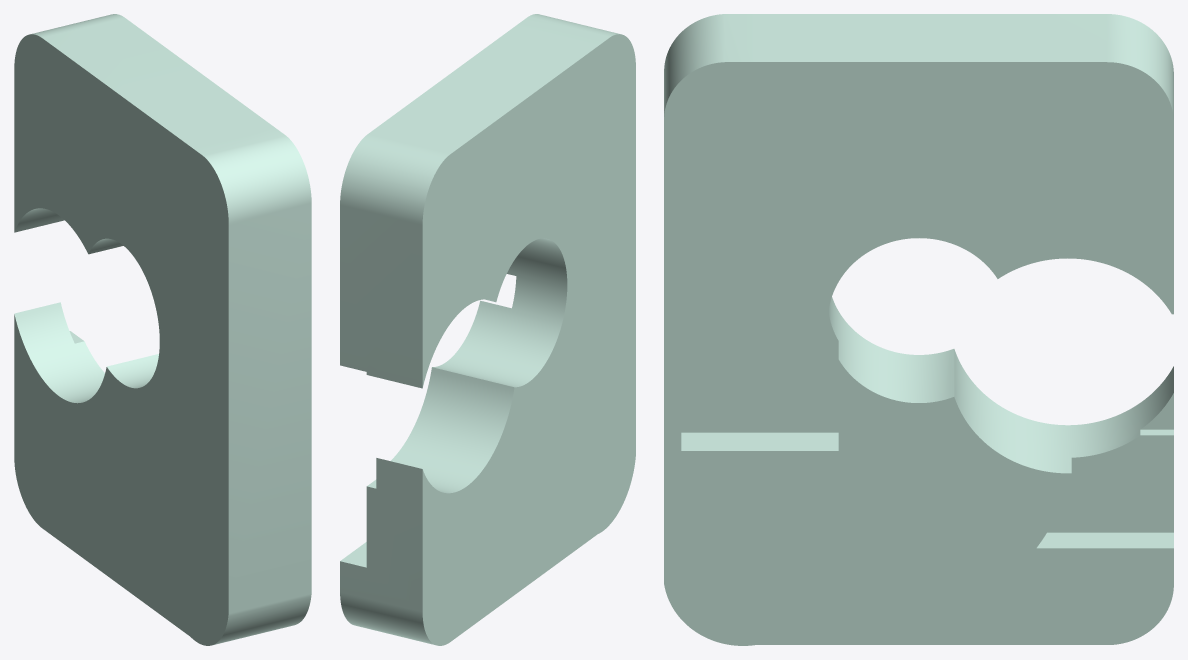
The picture shows the model from 3 angles, left to right: view 1: azimuth 30°, elevation 25°; view 2: azimuth 150°, elevation 25°; view 3: azimuth 270°, elevation 25°; orthographic projection. The views are drawn at different scales.
Visible parts, largest first — view 1: Renderer Node; view 2: Renderer Node; view 3: Renderer Node.
Boxes of the visible parts, bbox=[...] form: Renderer Node: bbox=[14, 14, 311, 645]; Renderer Node: bbox=[340, 14, 635, 645]; Renderer Node: bbox=[664, 14, 1173, 645].
Bounding box in the file's own units: 0.2656 × 1.5 × 1.19.
